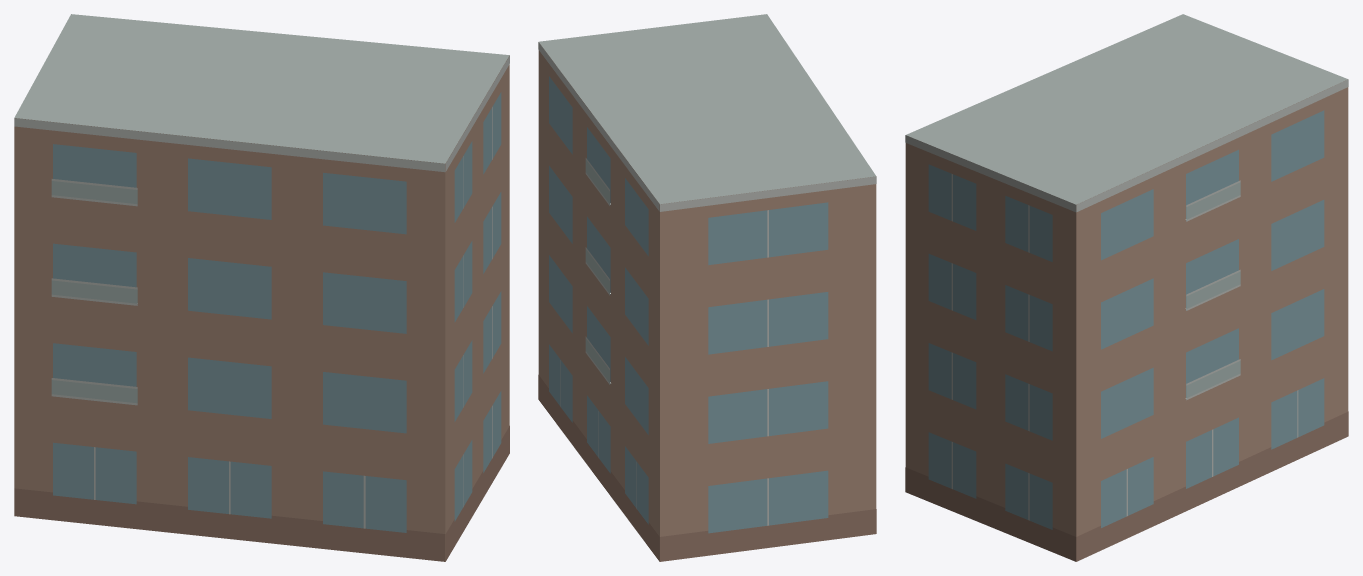
File: survey-upis-33045527.glb
The picture shows the model from 3 angles, left to right: view 1: azimuth 30°, elevation 25°; view 2: azimuth 150°, elevation 25°; view 3: azimuth 270°, elevation 25°; orthographic projection. The views are drawn at different scales.
Visible parts, largest first — view 1: survey-upis-33045527.tmp; view 2: survey-upis-33045527.tmp; view 3: survey-upis-33045527.tmp.
Part boxes in pixels (x1,y1,x2,y2): survey-upis-33045527.tmp: (14,14,509,561); survey-upis-33045527.tmp: (538,14,876,561); survey-upis-33045527.tmp: (905,14,1348,561).
Size of the model in its own units: 12.95 by 11.3 by 12.71.
